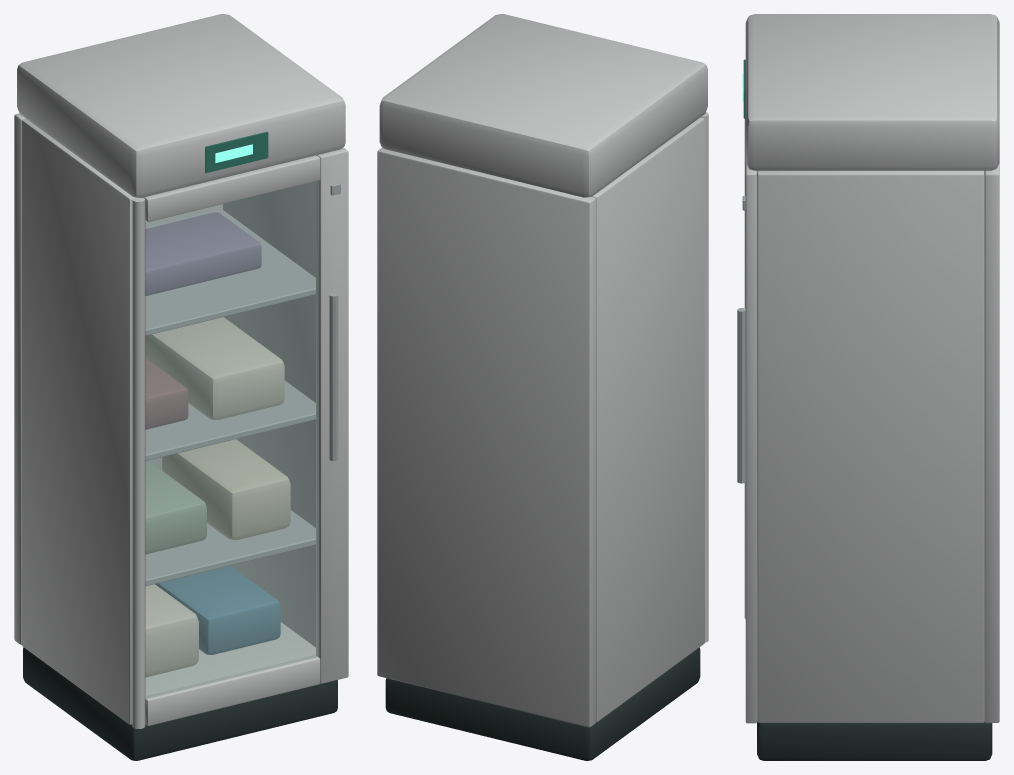
The model's file is medication-fridge.glb.
3 renders of one model, left to right at view 1: azimuth 30°, elevation 25°; view 2: azimuth 150°, elevation 25°; view 3: azimuth 270°, elevation 25°, orthographic. The views are drawn at different scales.
Parts seen in each view (by area): view 1: medication-fridge; view 2: medication-fridge; view 3: medication-fridge.
Boxes of the visible parts, x1,y1,x2,y2 form: medication-fridge: (14,14,348,760); medication-fridge: (377,14,708,760); medication-fridge: (737,14,999,760).
Bounding box in the file's own units: 0.68 × 1.88 × 0.6925.
